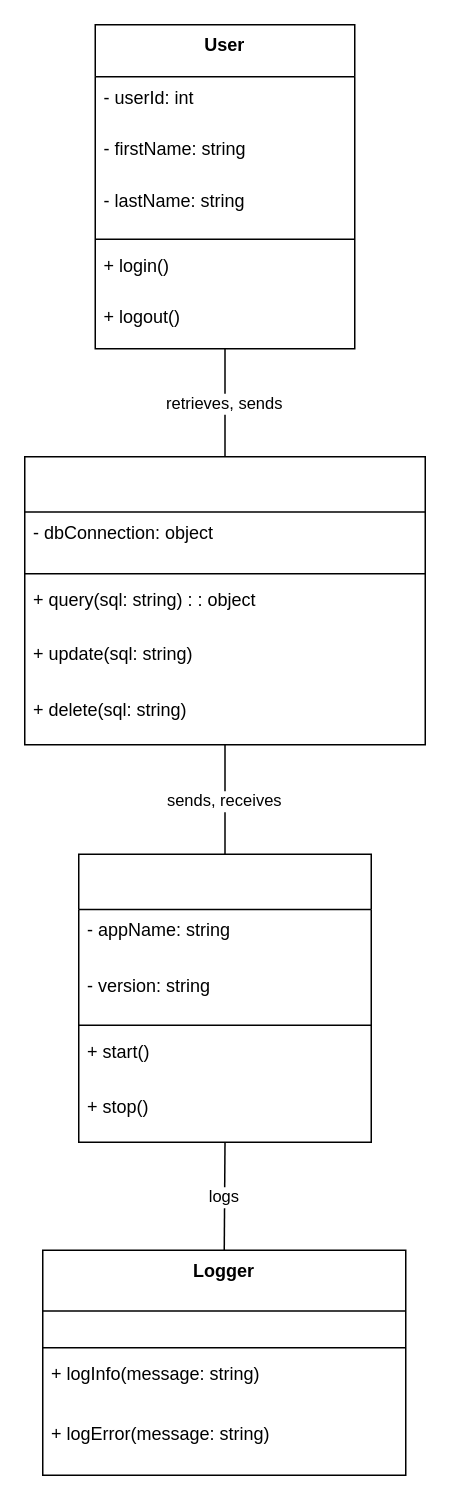
Image size: 450x1500. Some labels were removed from this diagram. Here are the shapes that lost their labels. From the top down, the box of each, then its label:
(23, 455, 425, 745): Database
(77, 853, 371, 1142): Application
